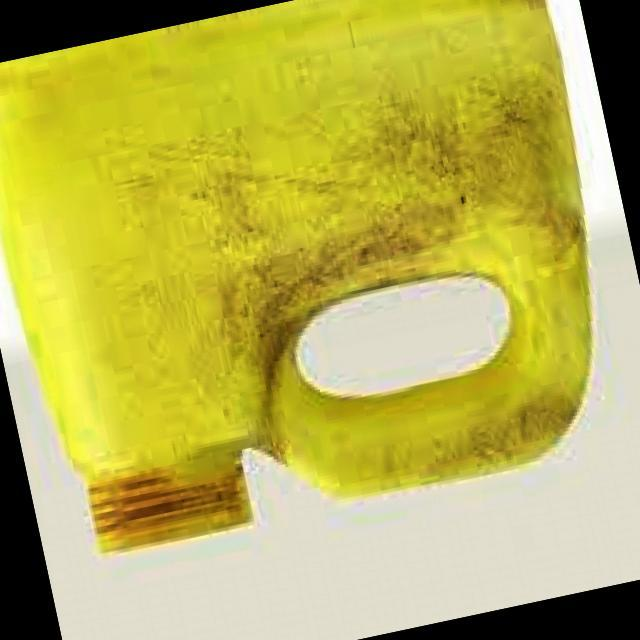HDPE Plastic: (0, 58, 600, 562)
